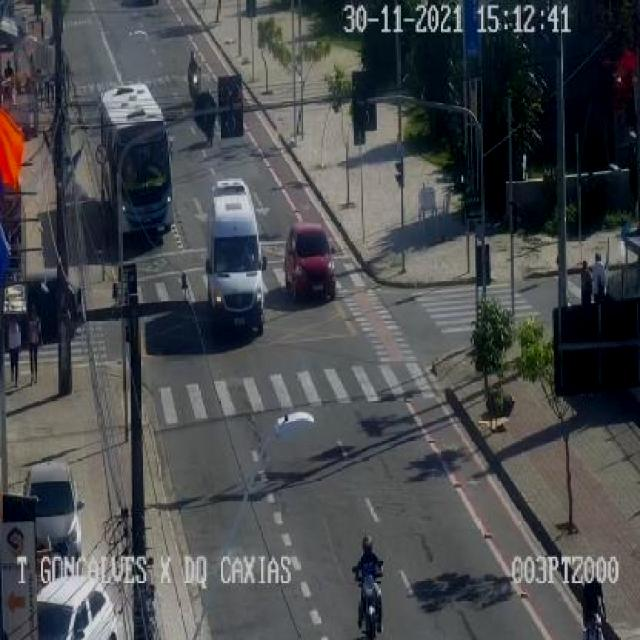Bus: (98, 85, 174, 234)
Car: (282, 222, 341, 304)
Cycle: (347, 535, 388, 640), (185, 52, 206, 104)
Truck: (204, 178, 268, 338)
